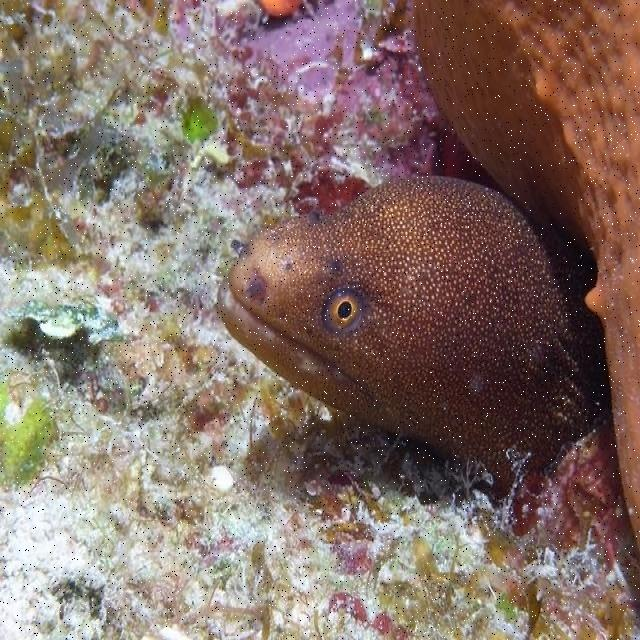fish: (216, 175, 611, 496)
reefs: (413, 0, 639, 529)
